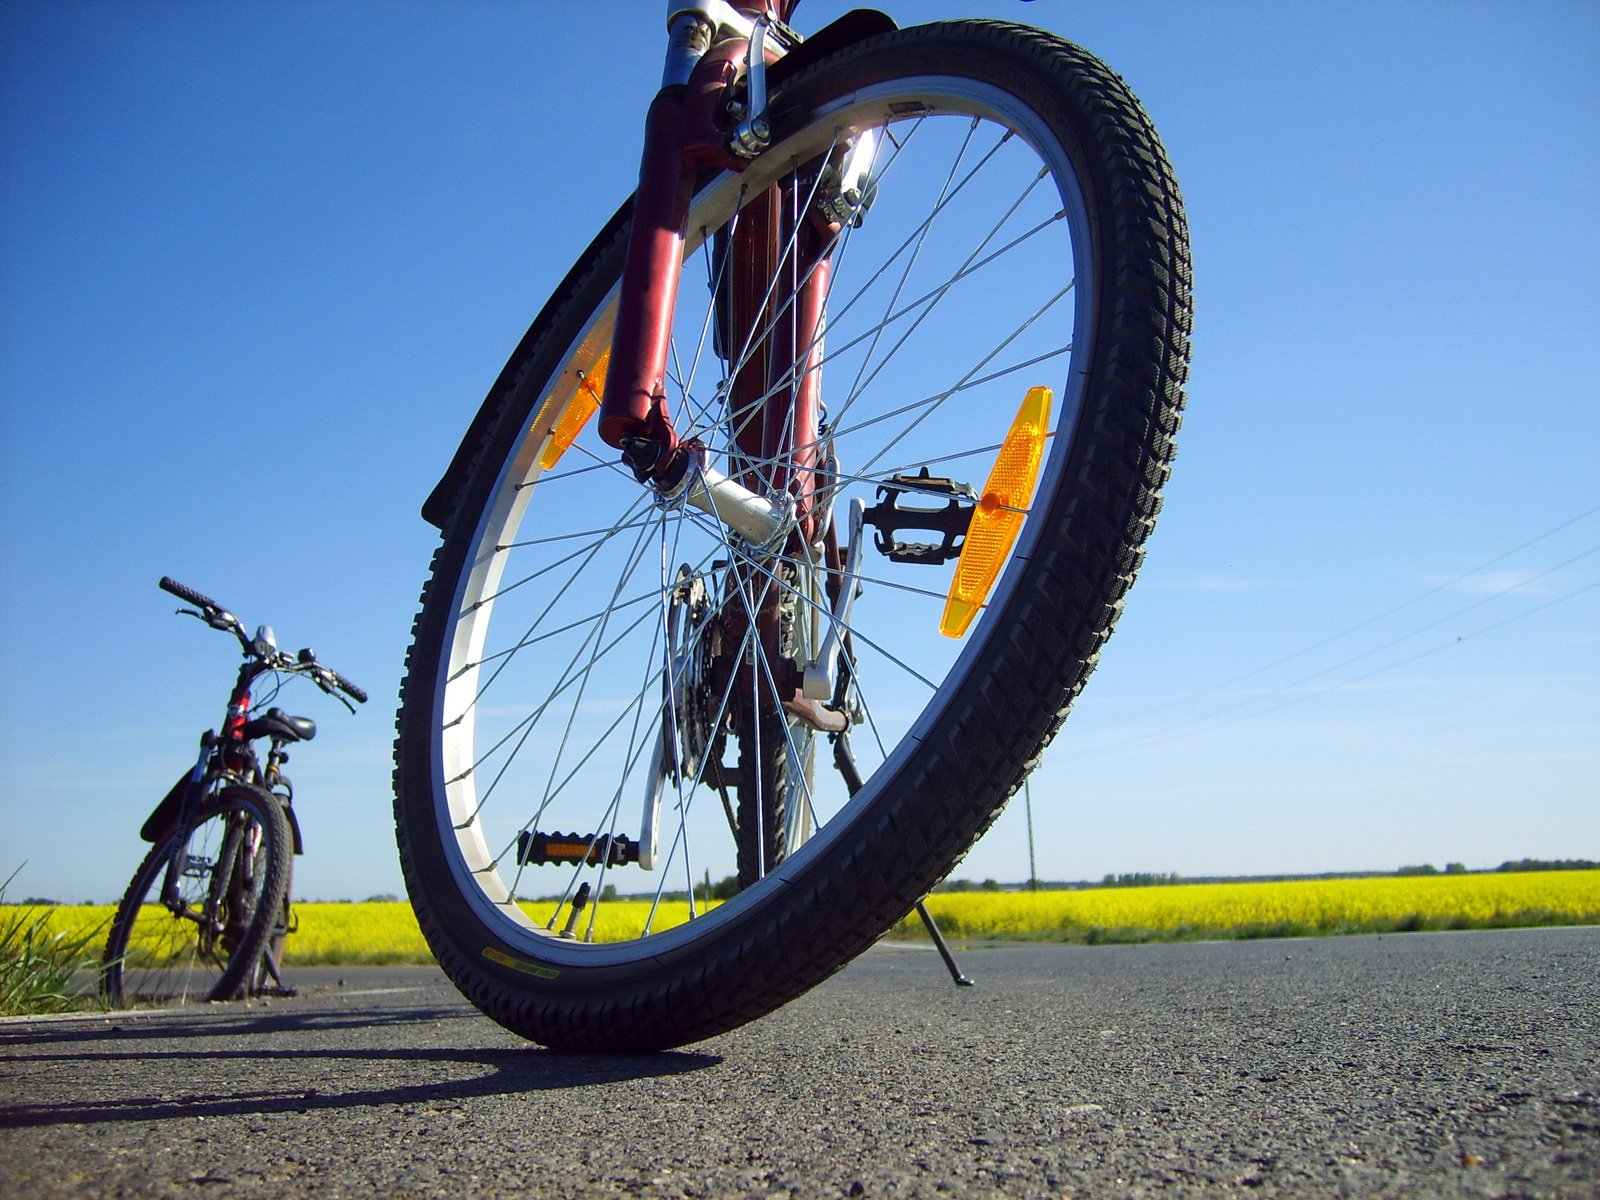Bicycle: (21, 32, 1529, 1150)
